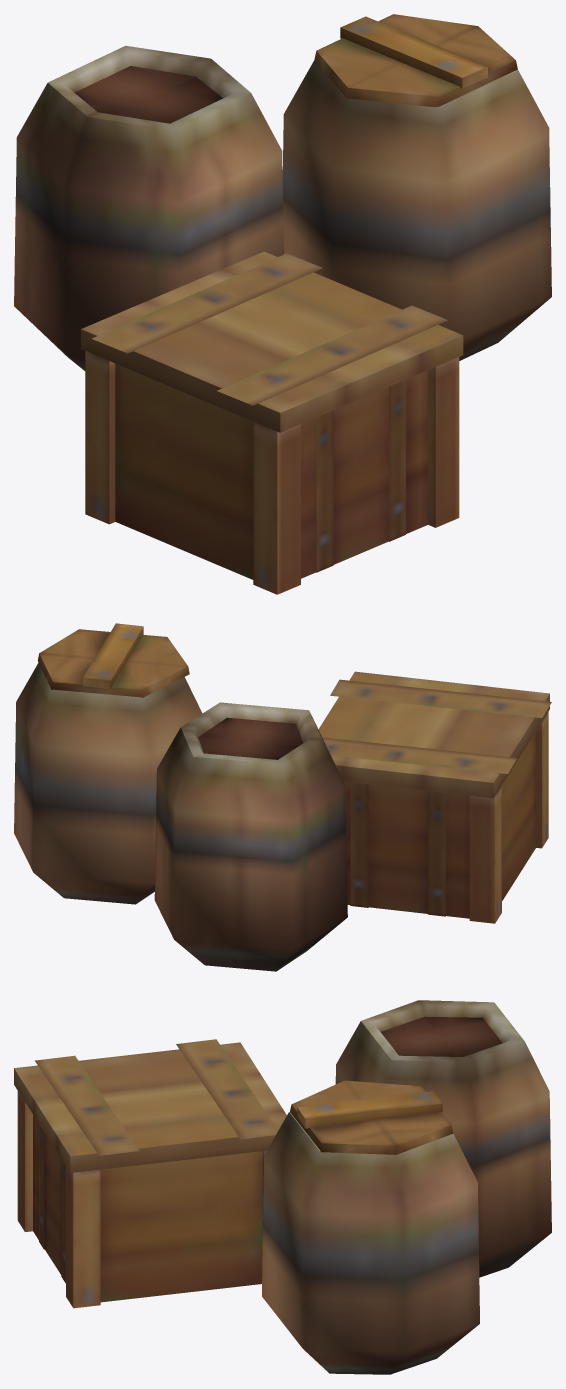
Rendered from area_08_15.fbx.
3 renders of one model, top to bottom at view 1: azimuth 30°, elevation 25°; view 2: azimuth 150°, elevation 25°; view 3: azimuth 270°, elevation 25°, orthographic. The views are drawn at different scales.
Visible parts, largest first — view 1: area_08_15; view 2: area_08_15; view 3: area_08_15.
Boxes of the visible parts, x1,y1,x2,y2 form: area_08_15: (14, 14, 551, 594); area_08_15: (14, 623, 551, 971); area_08_15: (14, 1000, 551, 1374).
Bounding box in the file's own units: 2.1 × 1.18 × 2.25.
